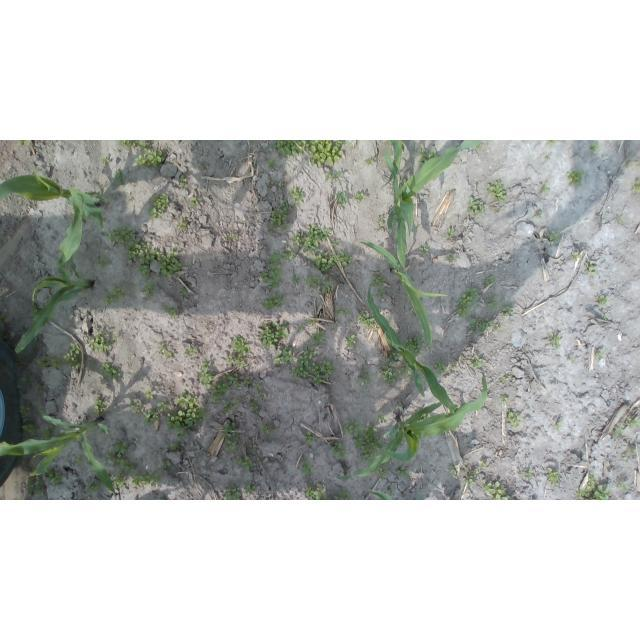Maize: (336, 372, 488, 483), (384, 140, 485, 286), (365, 277, 460, 413), (13, 197, 91, 355), (0, 404, 120, 500), (358, 236, 448, 349), (0, 163, 106, 227), (382, 141, 405, 188), (369, 489, 393, 500)
Weeds: (166, 390, 207, 433), (355, 424, 385, 465), (308, 140, 350, 168), (259, 249, 283, 290), (576, 473, 611, 500), (291, 344, 316, 378), (303, 224, 332, 253), (127, 239, 158, 266), (456, 286, 481, 319), (268, 201, 292, 234), (260, 320, 288, 348), (157, 248, 183, 277), (104, 453, 136, 476), (311, 361, 337, 388), (135, 148, 165, 170), (104, 283, 129, 307), (148, 193, 171, 219), (274, 141, 309, 158), (482, 480, 511, 500), (196, 360, 216, 388), (486, 180, 508, 205), (108, 226, 136, 245), (306, 276, 337, 293), (64, 344, 82, 373), (312, 251, 335, 273), (469, 317, 494, 337), (132, 471, 161, 488), (210, 380, 228, 405), (303, 483, 329, 500), (418, 147, 439, 168), (87, 332, 109, 352), (405, 335, 424, 357), (99, 362, 121, 381), (36, 355, 63, 370), (356, 310, 376, 330), (232, 335, 251, 356), (274, 347, 295, 366), (466, 196, 485, 216), (263, 294, 285, 311), (233, 455, 256, 471), (566, 167, 584, 187), (461, 467, 479, 487), (380, 364, 398, 384), (332, 440, 349, 461), (116, 140, 151, 150), (505, 410, 524, 428), (343, 419, 361, 438), (25, 480, 45, 497), (139, 280, 157, 298), (156, 339, 172, 359), (221, 420, 237, 439), (385, 348, 401, 367), (546, 467, 561, 486), (48, 469, 65, 485), (336, 250, 353, 266), (288, 188, 304, 205), (357, 369, 371, 388), (300, 456, 313, 476), (222, 488, 242, 501), (161, 305, 178, 320), (399, 362, 413, 380), (92, 399, 106, 417), (113, 441, 129, 456), (259, 424, 279, 436), (142, 410, 158, 425), (30, 304, 43, 322), (39, 424, 53, 440), (21, 423, 37, 437), (549, 332, 562, 349), (448, 460, 460, 478), (137, 265, 152, 279), (303, 431, 317, 446), (281, 247, 296, 261), (130, 399, 145, 413), (314, 331, 328, 346), (370, 275, 386, 288), (114, 170, 126, 187), (224, 374, 241, 386), (111, 473, 125, 487), (586, 260, 598, 276), (396, 466, 409, 480), (435, 361, 448, 375), (184, 343, 197, 357), (486, 298, 502, 309), (334, 490, 351, 500), (521, 468, 534, 481), (95, 255, 109, 267), (224, 439, 236, 453), (19, 403, 31, 417), (347, 335, 358, 350), (84, 483, 100, 493), (502, 304, 514, 317), (613, 425, 626, 437), (472, 356, 484, 369), (292, 233, 304, 246), (376, 465, 388, 478), (337, 191, 348, 205), (596, 295, 610, 306), (626, 417, 640, 428), (539, 182, 551, 194), (631, 179, 640, 195), (143, 388, 155, 400), (326, 172, 342, 181), (548, 230, 560, 242), (418, 244, 430, 256), (249, 401, 260, 414), (335, 307, 349, 317), (178, 175, 188, 189), (353, 193, 367, 203), (375, 413, 387, 424), (484, 277, 496, 288), (75, 456, 86, 468), (594, 349, 605, 361), (161, 460, 174, 470), (591, 142, 601, 155), (377, 287, 388, 298), (157, 400, 167, 412), (376, 215, 384, 229), (189, 197, 199, 208), (267, 159, 278, 169), (500, 374, 512, 383), (570, 252, 582, 261), (616, 483, 628, 492), (247, 441, 255, 454), (247, 484, 256, 495), (176, 431, 185, 442), (224, 402, 233, 413), (169, 441, 178, 451), (445, 228, 455, 237), (101, 156, 110, 165), (179, 287, 188, 296), (480, 459, 488, 469), (291, 275, 301, 283), (177, 220, 187, 228), (554, 421, 562, 431), (15, 140, 25, 148), (501, 396, 510, 404), (628, 445, 637, 453), (445, 254, 453, 263), (231, 396, 239, 405), (254, 382, 263, 390), (366, 157, 375, 165), (227, 354, 234, 364), (243, 377, 250, 387), (547, 140, 558, 146), (298, 324, 306, 332), (617, 216, 625, 224), (269, 176, 277, 184), (330, 240, 339, 247), (112, 334, 120, 341), (601, 313, 608, 321), (476, 143, 484, 150), (227, 233, 235, 240), (96, 183, 105, 189), (307, 321, 316, 327), (537, 211, 544, 218), (37, 405, 44, 412), (279, 183, 286, 190), (624, 161, 632, 167), (495, 323, 501, 331), (235, 360, 241, 367), (569, 356, 575, 362), (127, 197, 133, 203), (260, 392, 265, 399), (546, 155, 551, 160), (624, 456, 628, 461)
